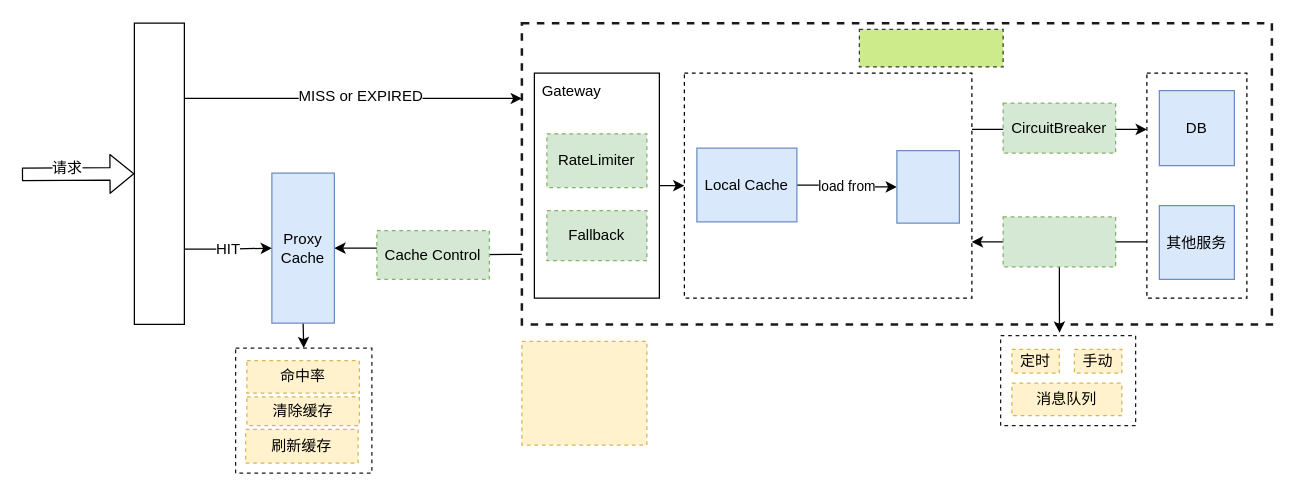
The diagram is 1295 pixels wide and 495 high, and some of its shapes have lost their labels. The shapes that lost their labels are listed below. From the top down, each one's centre as x and y in pixels, then its label:
(x=930, y=47): Edge Service
(x=158, y=173): Nginx
(x=927, y=186): Redis
(x=1059, y=241): Updater
(x=584, y=392): 1. 多重降级能力 2. 弹性扩容能力 3. 限流能力 4. 熔断能力 5. 多级缓存能力
